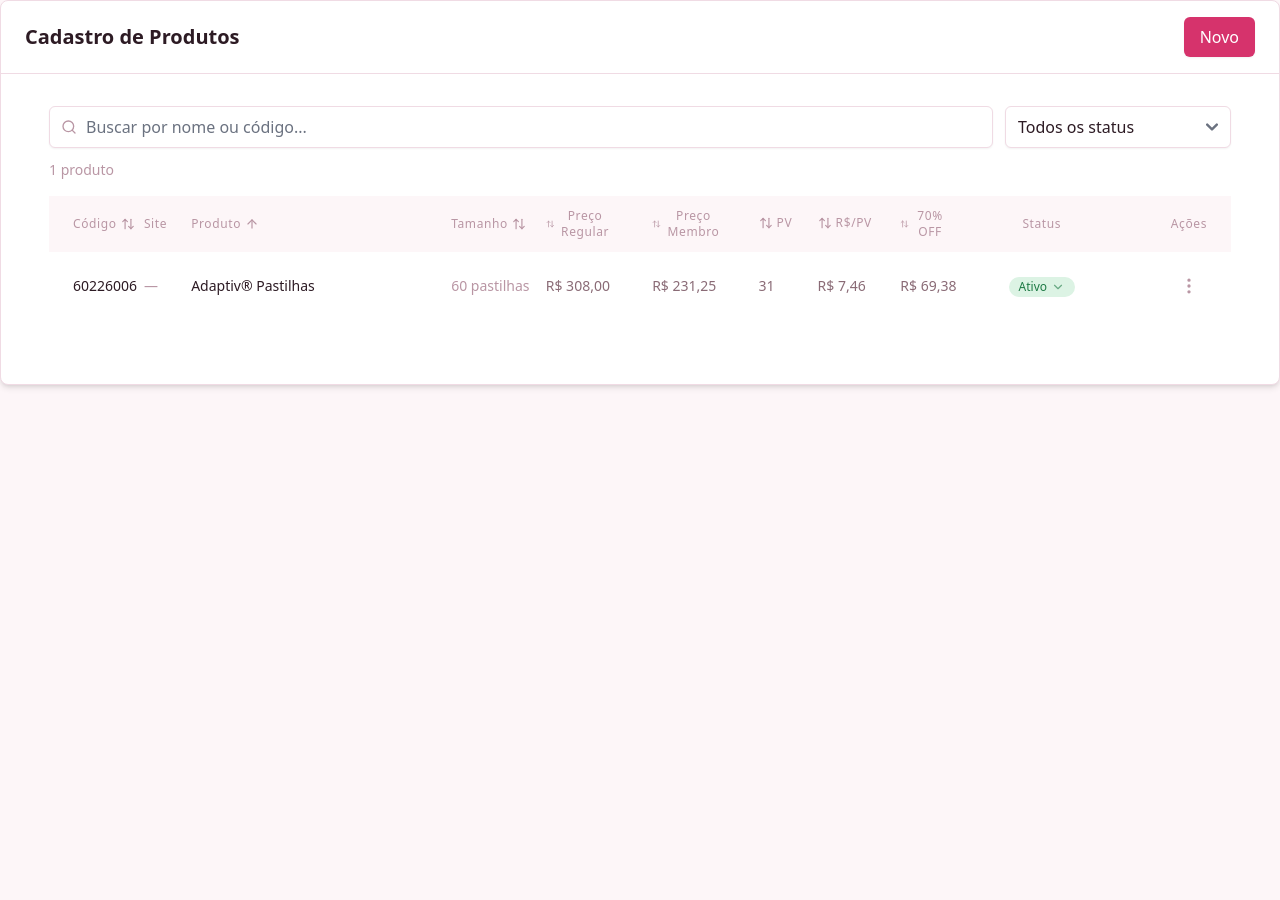
Test: Product usage modal › lists the blocking references and keeps the delete action available
Expected: the button "Adaptiv® Pastilhas" is shown, [191, 276, 315, 296]
Click the button with test id "product-actions-1-trigger".
click(1189, 286)  # box [1171, 268, 1207, 304]
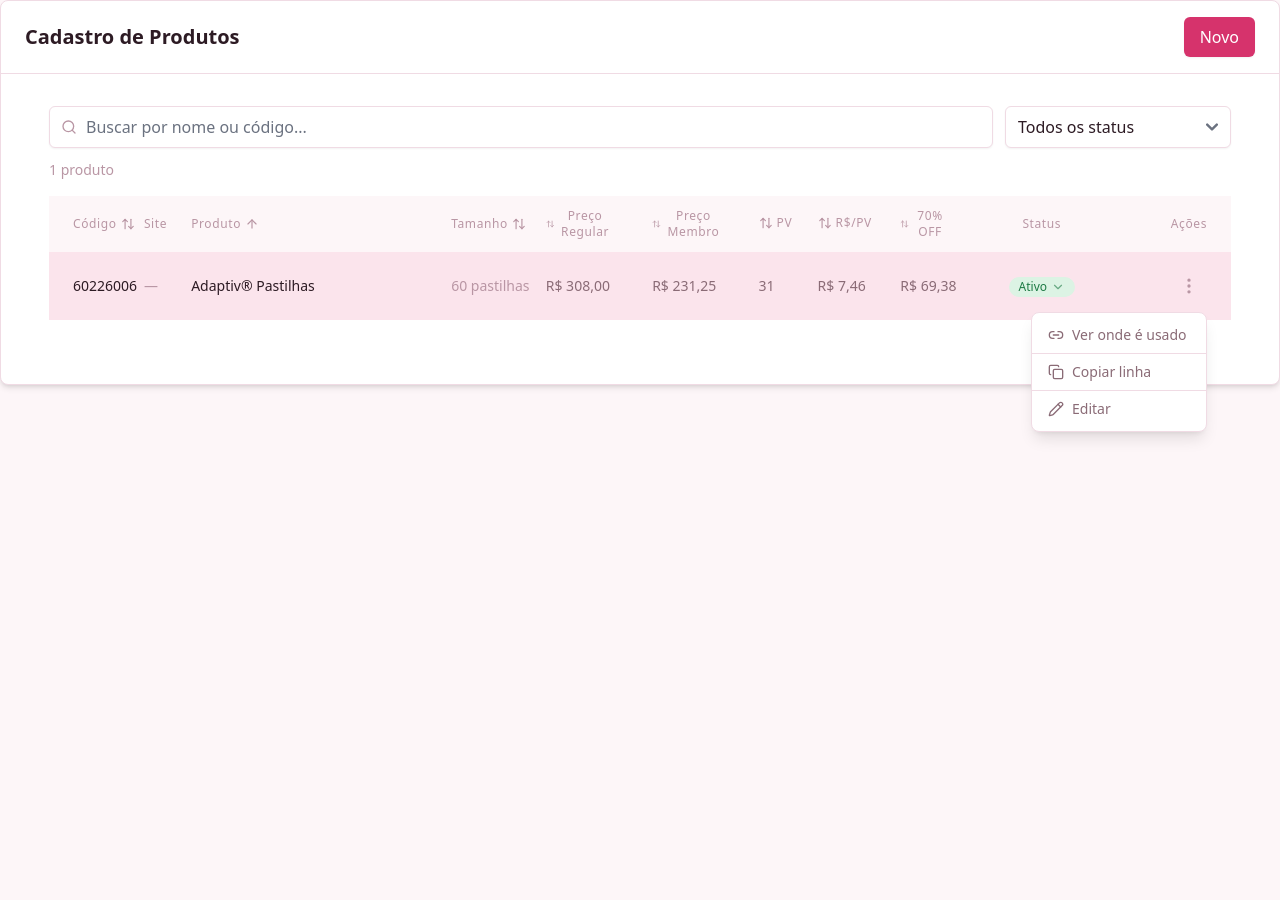
Click the menu item with test id "product-actions-1-item-Ver-onde-e-usado".
click(1119, 335)  # box [1032, 317, 1206, 353]
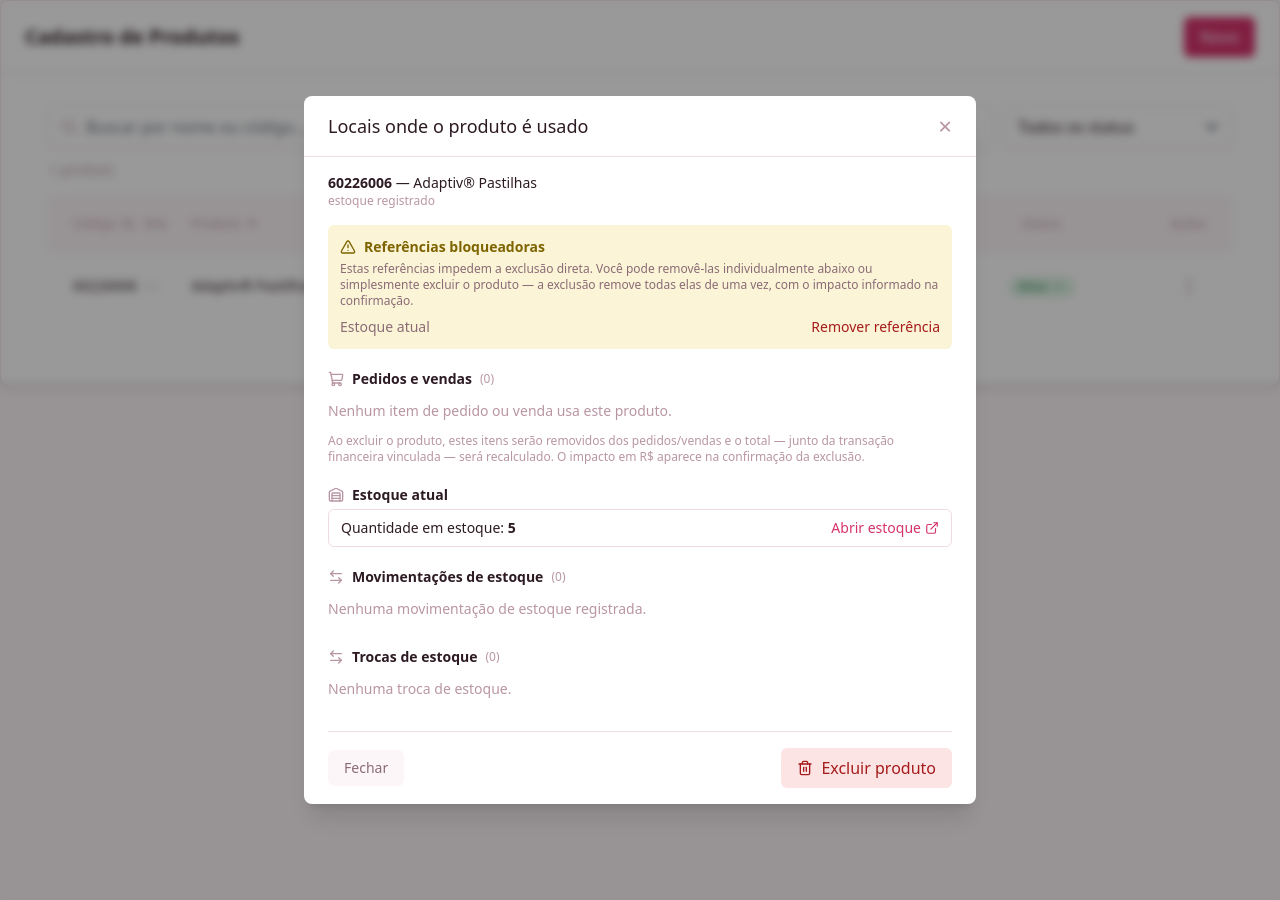
Expected: the element with test id "product-usage-modal" is shown
Expected: the element with test id "product-usage-blockers" is shown, [328, 225, 952, 349]
Expected: the button with test id "product-usage-delete" is enabled, [781, 748, 952, 788]
